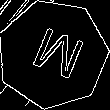M_S: (22, 22, 84, 86)
